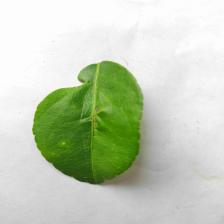greening: (68, 86, 128, 149)
